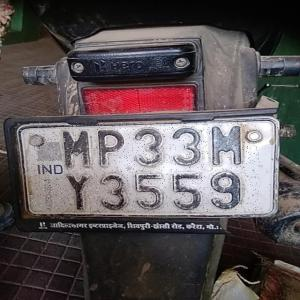Plate: (30, 123, 260, 213)
